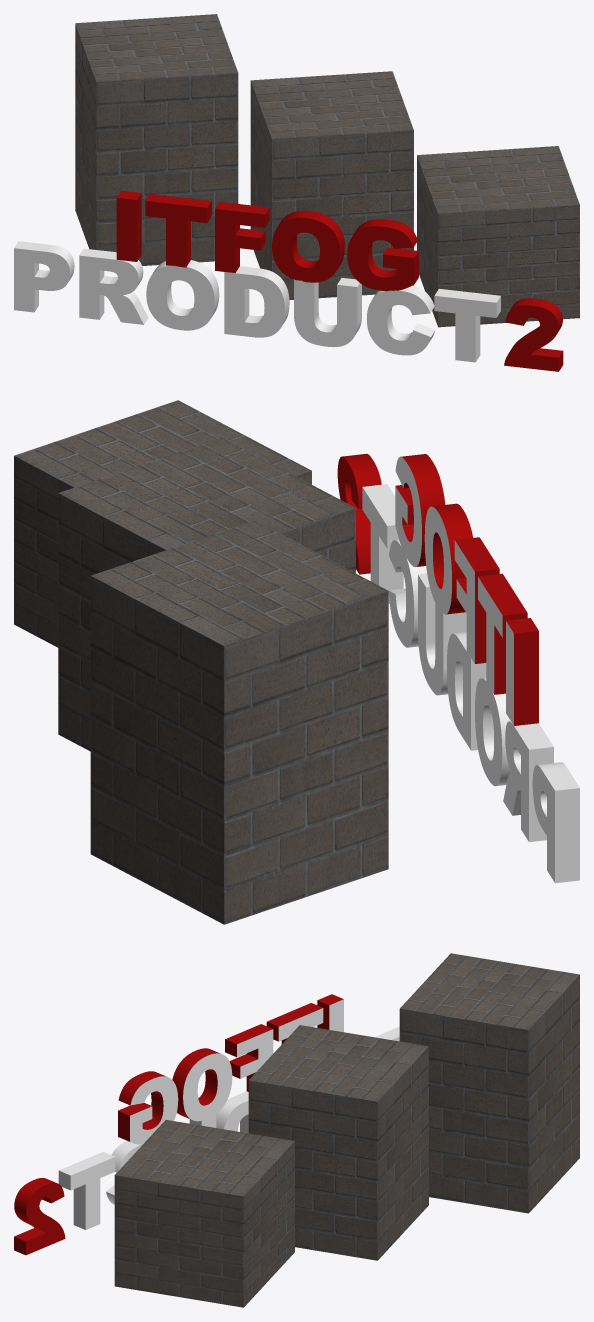
3 renders of one model, top to bottom at view 1: azimuth 30°, elevation 25°; view 2: azimuth 150°, elevation 25°; view 3: azimuth 270°, elevation 25°, orthographic. The views are drawn at different scales.
Parts seen in each view (by area): view 1: Text002, Box001, Box002, Box003, Text001; view 2: Box001, Text002, Box002, Box003, Text001; view 3: Box001, Box002, Box003, Text002, Text001.
Part boxes in pixels (box(x1,y1,x2,y2)): Text002: box(14, 190, 500, 362); Box001: box(75, 14, 238, 265); Box002: box(250, 71, 413, 299); Box003: box(417, 146, 579, 327); Text001: box(504, 298, 563, 371); Box001: box(90, 520, 388, 924); Text002: box(362, 454, 579, 883); Box002: box(58, 437, 355, 751); Box003: box(14, 400, 311, 647); Text001: box(337, 453, 381, 574); Box001: box(399, 953, 579, 1213); Box002: box(248, 1025, 428, 1260); Box003: box(114, 1120, 294, 1307); Text002: box(58, 994, 399, 1229); Text001: box(14, 1178, 65, 1255).
Size of the model in its own units: 1.55 by 0.597 by 1.67.
3 materials, 1 textured.
